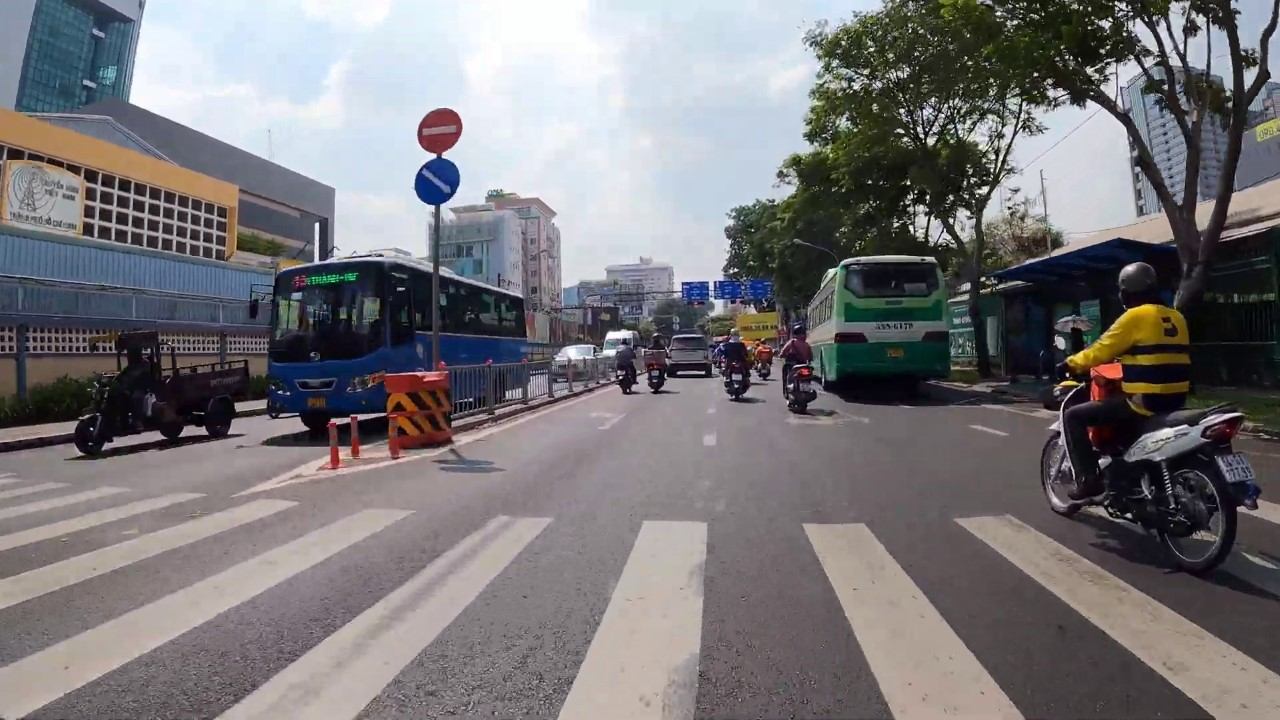cam_nguoc_chieu: (417, 107, 463, 155)
huong_phai_di_vong: (413, 158, 461, 206)
